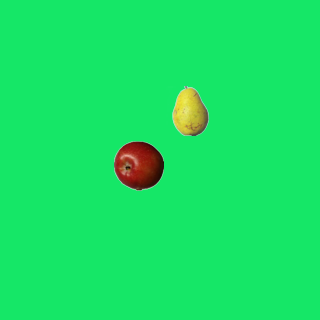Apple Braeburn: (113, 140, 163, 190)
Pear Monster: (165, 85, 215, 135)
